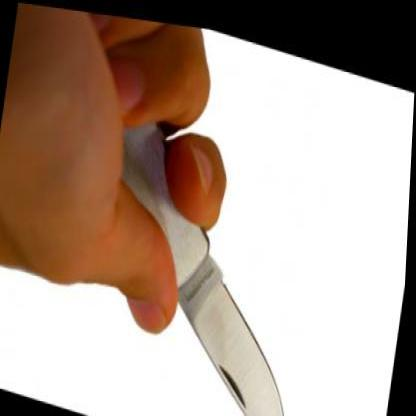knife: (76, 84, 339, 412)
